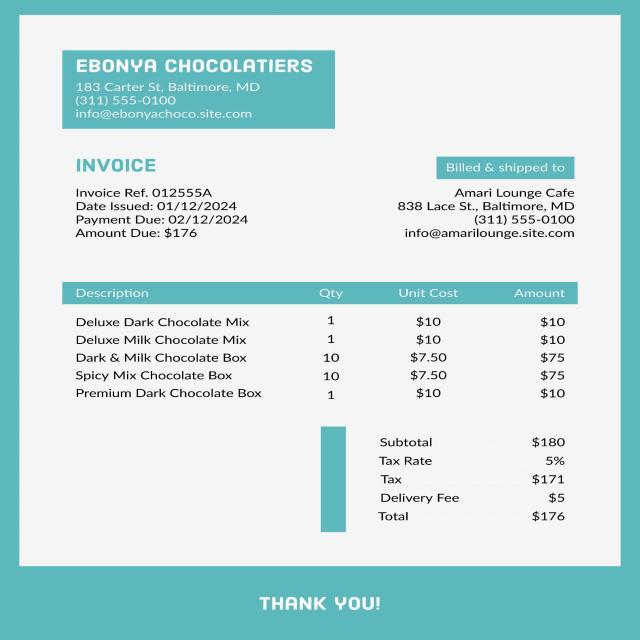paragraph: (373, 419, 582, 526), (61, 142, 263, 249), (63, 48, 324, 126), (385, 152, 582, 247), (252, 590, 402, 620)
table: (58, 279, 588, 410)
